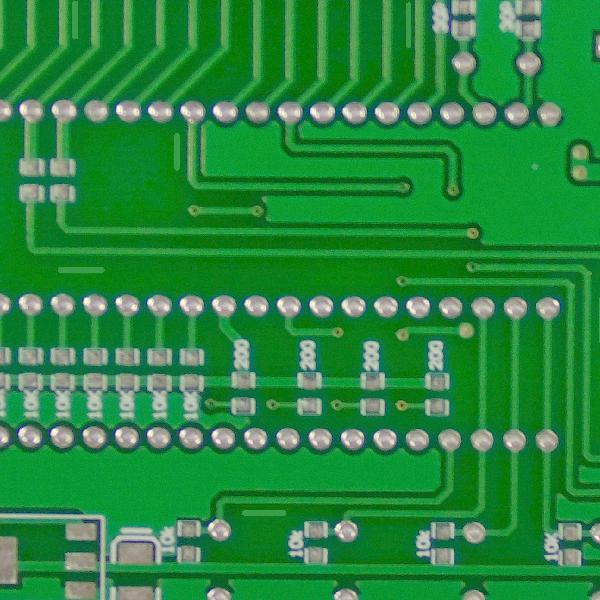spurious_copper: (53, 255, 107, 283), (236, 501, 290, 523), (165, 126, 187, 174), (398, 1, 419, 51), (66, 0, 86, 44)
